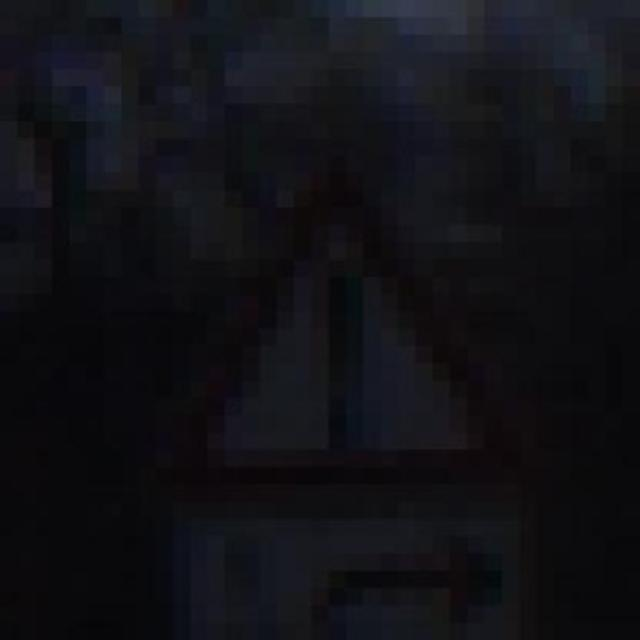Attention Please-: (104, 156, 519, 502)
